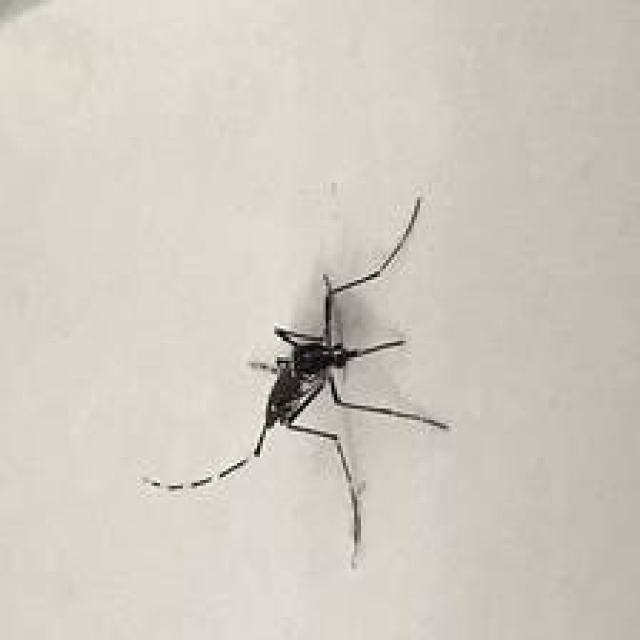Aedes albopictus: (138, 194, 453, 569)
